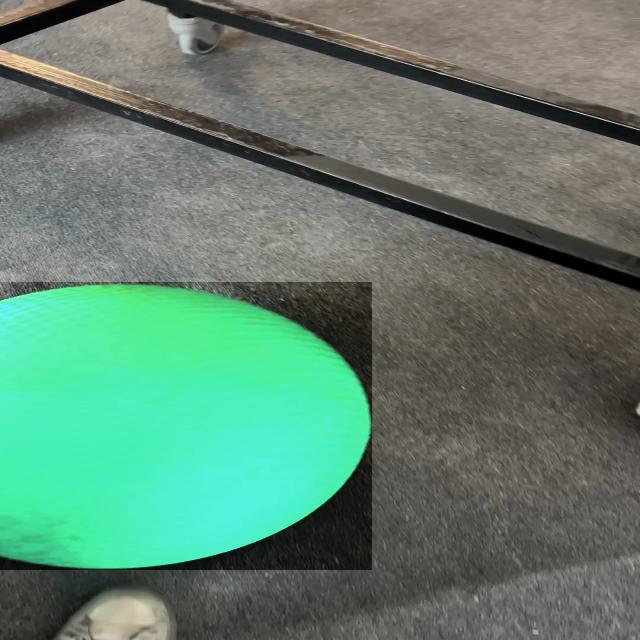Algae: (0, 282, 372, 570)
